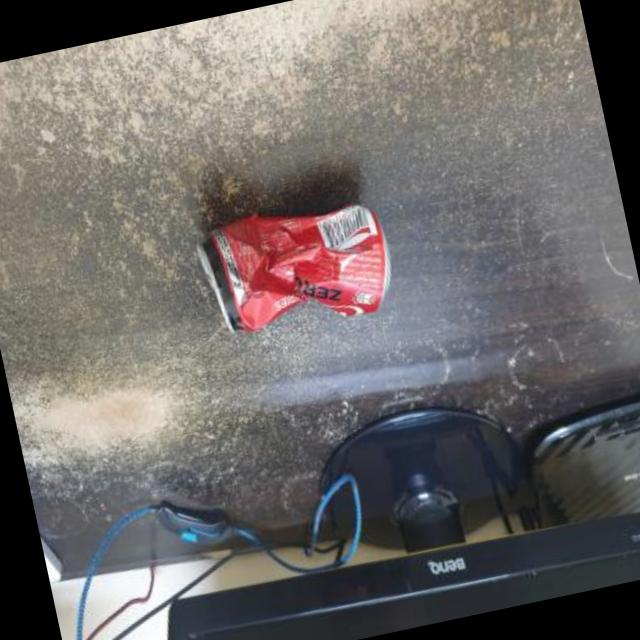metal: (197, 203, 390, 331)
